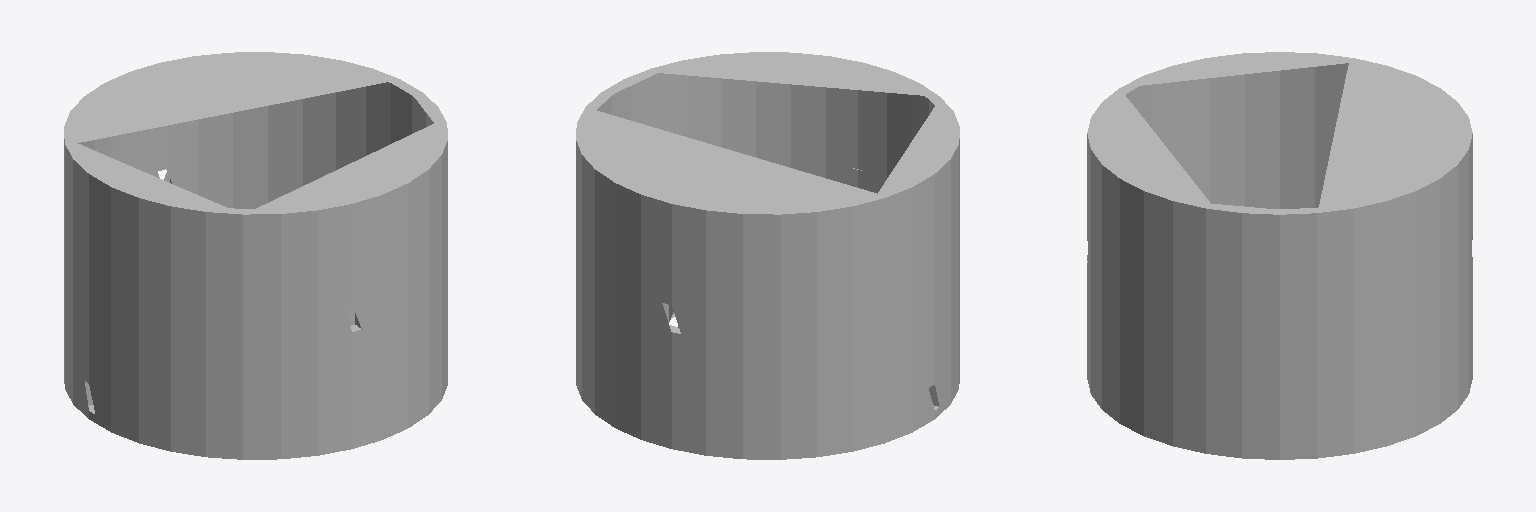
The model's file is library_wall.obj.
3 renders of one model, left to right at view 1: azimuth 30°, elevation 25°; view 2: azimuth 150°, elevation 25°; view 3: azimuth 270°, elevation 25°, orthographic.
Visible parts, largest first — view 1: Cylinder.002; view 2: Cylinder.002; view 3: Cylinder.002.
Part boxes in pixels (left/top/right/bottom): Cylinder.002: left=64, top=52, right=447, bottom=459; Cylinder.002: left=576, top=52, right=959, bottom=459; Cylinder.002: left=1087, top=52, right=1472, bottom=459.
Bounding box in the file's own units: 60 × 42.14 × 60.